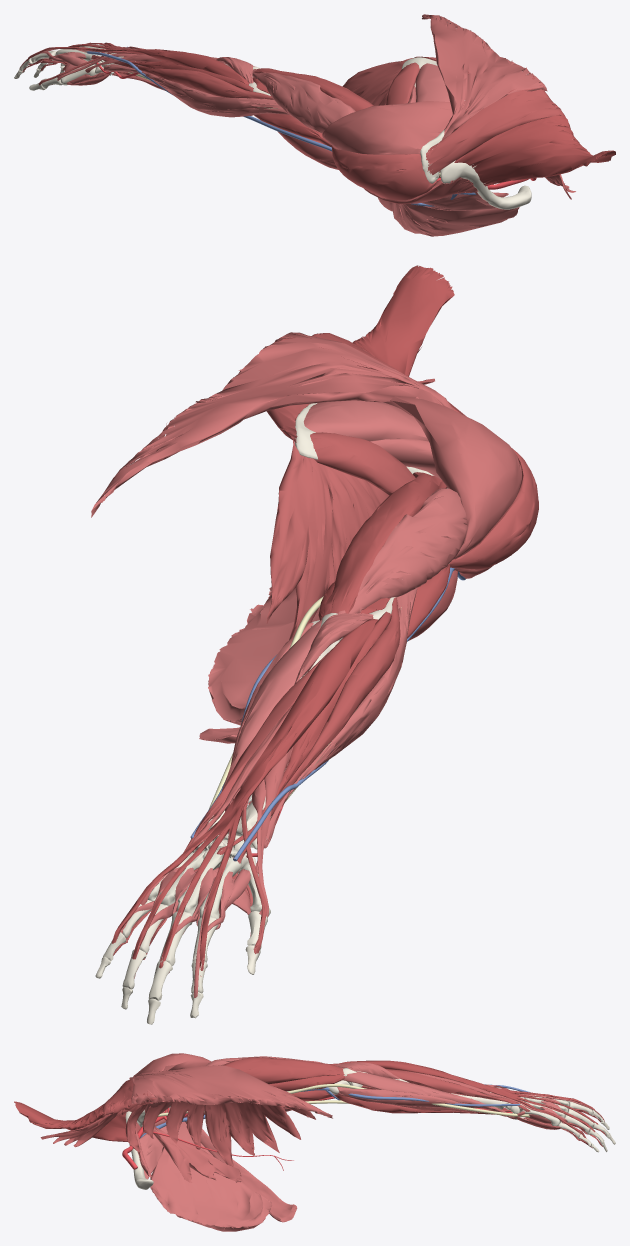
Rendered from ekstremitas-superior-v4.glb.
The picture shows the model from 3 angles, top to bottom: view 1: azimuth 30°, elevation 25°; view 2: azimuth 150°, elevation 25°; view 3: azimuth 270°, elevation 25°; orthographic projection. The views are drawn at different scales.
Parts seen in each view (by area): view 1: m_trapezius-pars-ascendens, m_trapezius-pars-descendens, m_deltoideus-pars-spinalis, m_trapezius-pars-transversa, m_deltoideus-pars-acromialis, m_triceps-brachii-caput-laterale, m_pectoralis-major-pars-sternocostalis, m_brachioradialis, m_extensor-digitorum, m_extensor-carpi-radialis-longus, m_serratus-anterior, os_clavicula (+15 smaller); view 2: m_trapezius-pars-ascendens, m_serratus-anterior, m_extensor-digitorum, m_deltoideus-pars-spinalis, m_triceps-brachii-caput-laterale, m_pectoralis-major-pars-sternocostalis, m_trapezius-pars-descendens, m_triceps-brachii-caput-longum, os_phalanges, m_extensor-carpi-radialis-longus, m_infraspinatus, m_teres-major (+11 smaller); view 3: m_serratus-anterior, m_pectoralis-major-pars-sternocostalis, m_trapezius-pars-ascendens, m_extensor-digitorum, m_triceps-brachii-caput-longum, m_pectoralis-minor, m_trapezius-pars-descendens, m_flexor-carpi-ulnaris-caput-humerale, m_flexor-carpi-ulnaris-caput-ulnare, m_pectoralis-major-pars-abdominalis, m_extensor-carpi-ulnaris, os_phalanges (+17 smaller).
Boxes of the visible parts, bbox=[...] form: m_trapezius-pars-ascendens: bbox=[422, 14, 547, 139]; m_trapezius-pars-descendens: bbox=[454, 114, 615, 186]; m_deltoideus-pars-spinalis: bbox=[322, 101, 452, 154]; m_trapezius-pars-transversa: bbox=[426, 76, 564, 174]; m_deltoideus-pars-acromialis: bbox=[331, 145, 437, 200]; m_triceps-brachii-caput-laterale: bbox=[252, 69, 355, 133]; m_pectoralis-major-pars-sternocostalis: bbox=[392, 202, 519, 236]; m_brachioradialis: bbox=[103, 64, 289, 117]; m_extensor-digitorum: bbox=[26, 42, 248, 84]; m_extensor-carpi-radialis-longus: bbox=[91, 55, 273, 99]; m_serratus-anterior: bbox=[342, 58, 493, 184]; os_clavicula: bbox=[440, 160, 531, 209]; m_trapezius-pars-ascendens: bbox=[91, 332, 453, 517]; m_serratus-anterior: bbox=[266, 417, 389, 639]; m_extensor-digitorum: bbox=[111, 618, 378, 970]; m_deltoideus-pars-spinalis: bbox=[383, 396, 521, 559]; m_triceps-brachii-caput-laterale: bbox=[337, 488, 467, 614]; m_pectoralis-major-pars-sternocostalis: bbox=[208, 587, 325, 725]; m_trapezius-pars-descendens: bbox=[352, 265, 454, 376]; m_triceps-brachii-caput-longum: bbox=[323, 472, 447, 616]; os_phalanges: bbox=[95, 900, 267, 1024]; m_extensor-carpi-radialis-longus: bbox=[233, 597, 400, 863]; m_infraspinatus: bbox=[303, 400, 428, 441]; m_teres-major: bbox=[310, 432, 415, 495]; m_serratus-anterior: bbox=[125, 1090, 315, 1166]; m_pectoralis-major-pars-sternocostalis: bbox=[150, 1121, 272, 1231]; m_trapezius-pars-ascendens: bbox=[129, 1065, 332, 1118]; m_extensor-digitorum: bbox=[334, 1060, 598, 1138]; m_triceps-brachii-caput-longum: bbox=[223, 1057, 344, 1084]; m_pectoralis-minor: bbox=[142, 1121, 242, 1182]; m_trapezius-pars-descendens: bbox=[14, 1101, 127, 1141]; m_flexor-carpi-ulnaris-caput-humerale: bbox=[337, 1087, 524, 1119]; m_flexor-carpi-ulnaris-caput-ulnare: bbox=[343, 1072, 490, 1108]; m_pectoralis-major-pars-abdominalis: bbox=[185, 1121, 297, 1222]; m_extensor-carpi-ulnaris: bbox=[386, 1069, 530, 1111]; os_phalanges: bbox=[558, 1101, 615, 1152].
Size of the model in its own units: 0.328 by 0.2433 by 0.8535.
